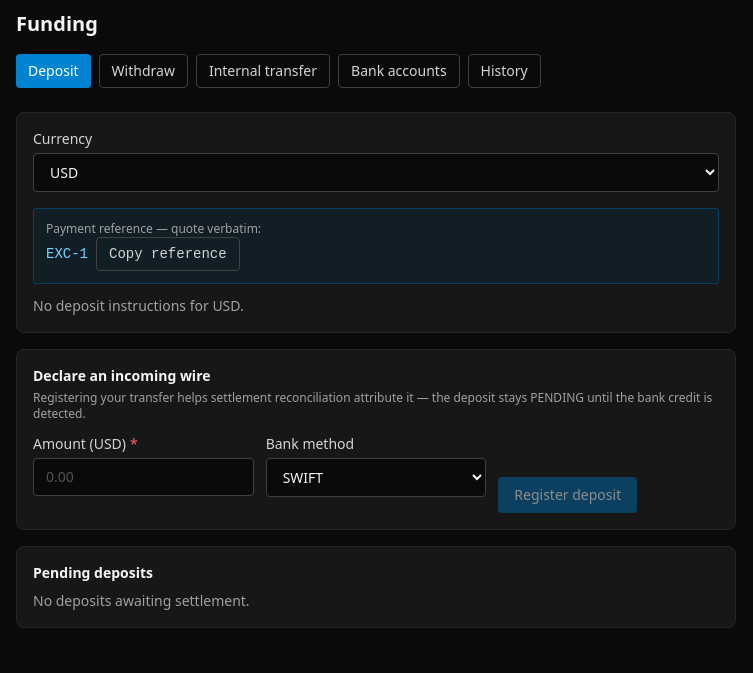
Test case: DepositIntent › registers a deposit intent with an Idempotency-Key
This screenshot has width=753, height=673.
Type "1000" into the field labelled "Amount (USD)*".
click(143, 477); type("1000")  # box [33, 458, 254, 496]
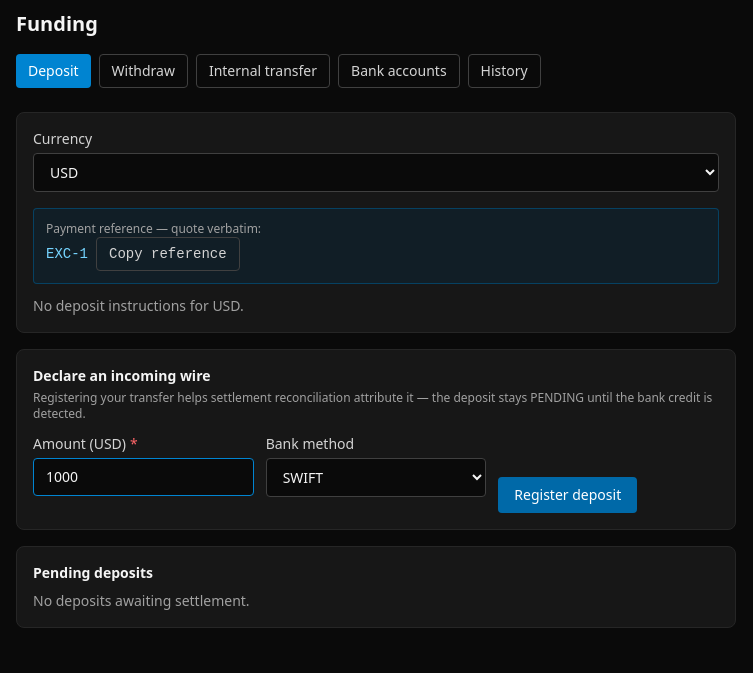
Click the button "Register deposit".
click(568, 495)  # box [498, 477, 637, 513]
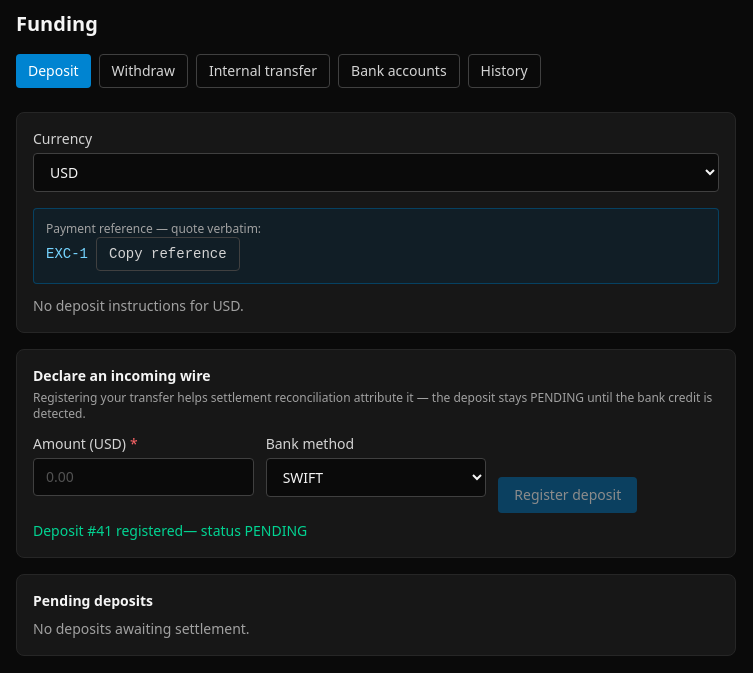
expect the text "Deposit #41 registered— status PENDING" is shown: met, box [33, 521, 307, 540]
